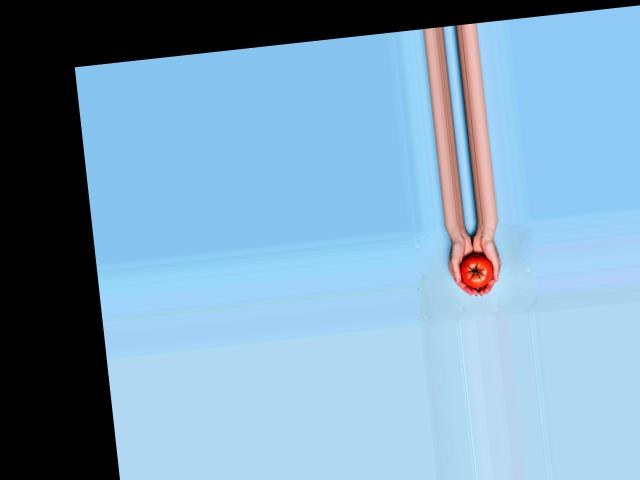tomato: (457, 252, 494, 289)
